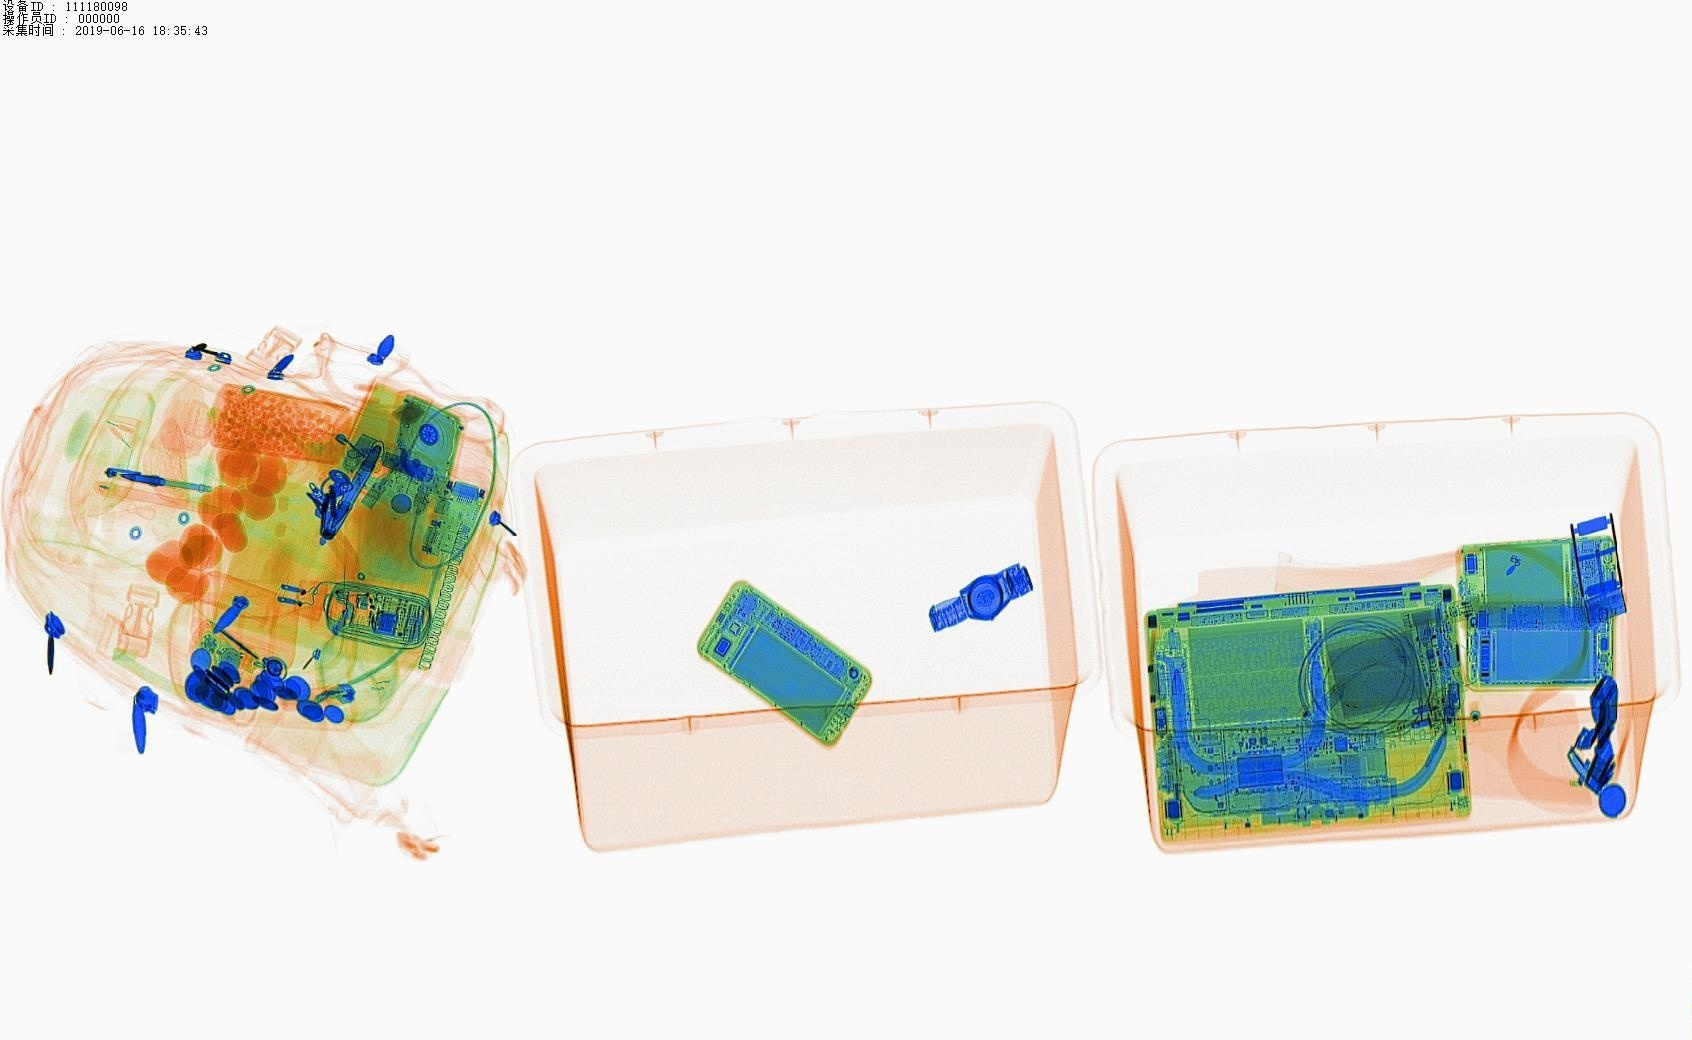NonmetallicFire: (248, 670, 373, 737)
